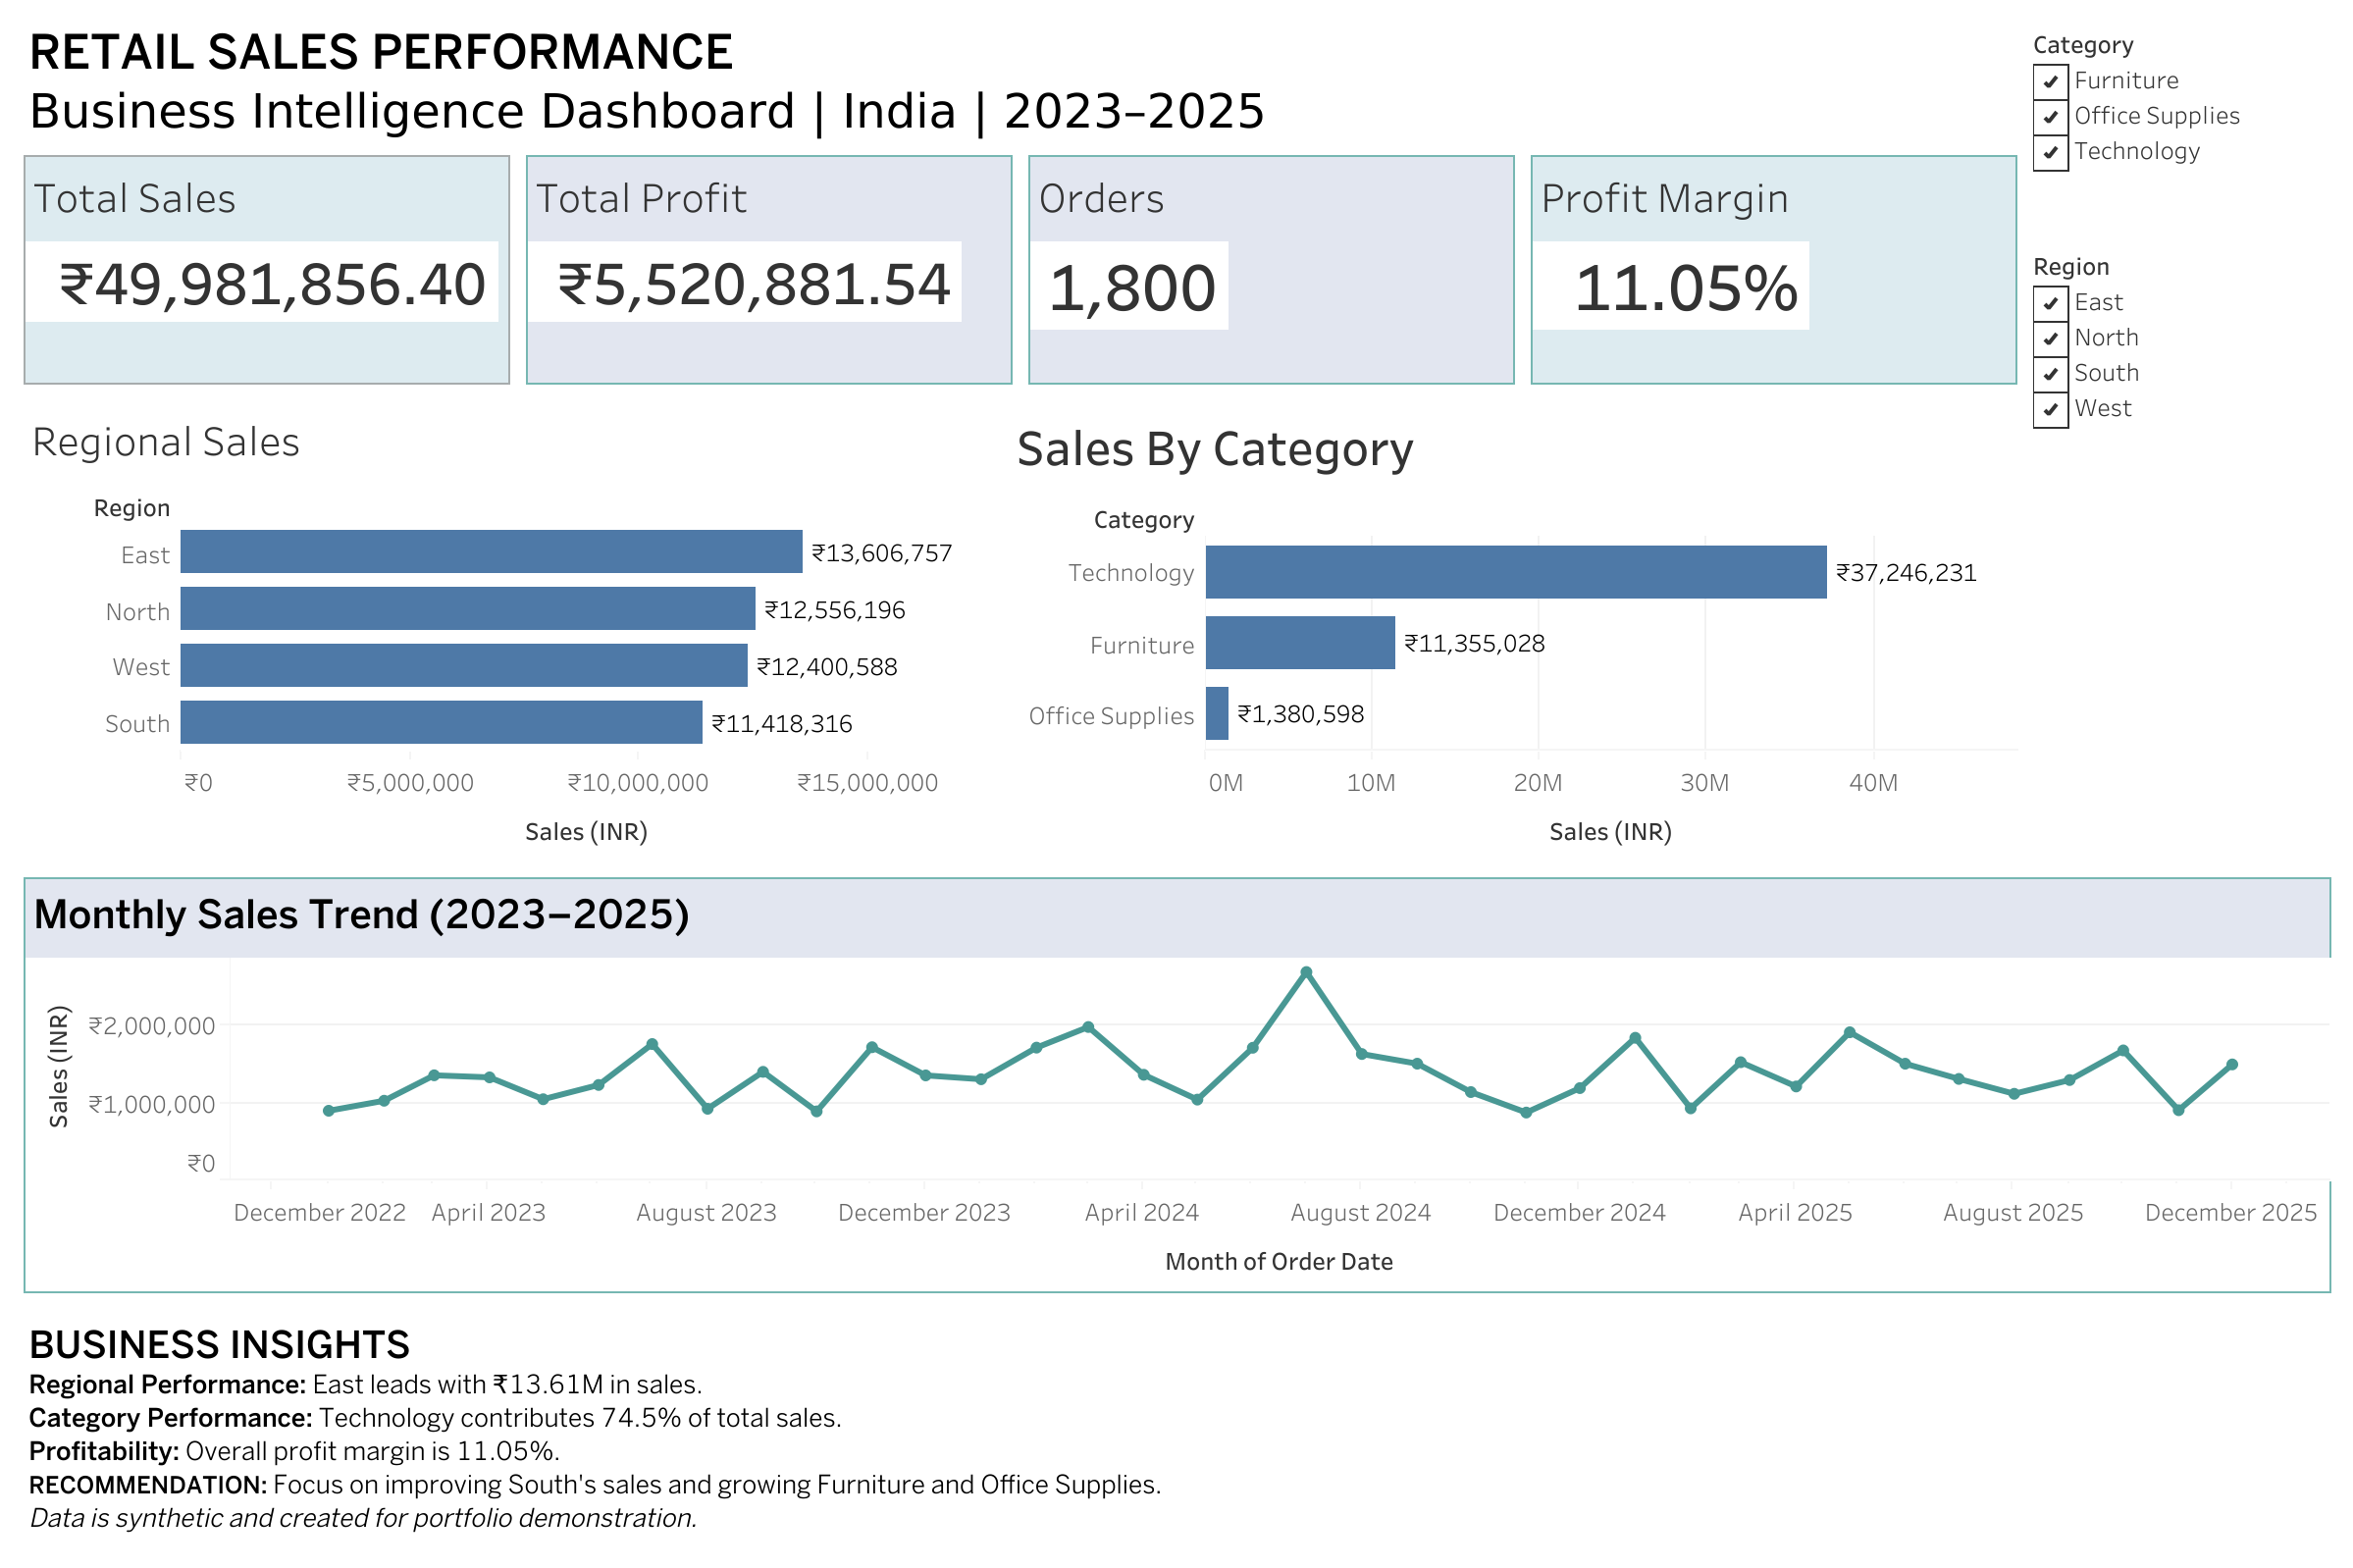

The dashboard page shown, as its layout file describes it:
{"tool":"tableau","page":{"name":"Dashboard 1","canvas":[1000,1000],"units":"permille","ordinal":0},"visuals":[{"type":"title","box":[6.7,10,853.3,81.2]},{"type":"filter","title":"Regional Sales","param":"[federated.0dqyoet0lazu3o1ajphkh1cvmn64].[none:Category:nk]","box":[860,10,133.3,135]},{"type":"worksheet","title":"Total Sales","mark":"Automatic","box":[6.7,91.2,213.3,158.8]},{"type":"worksheet","title":"Total Profit","mark":"Automatic","box":[220,91.2,213.3,158.8]},{"type":"worksheet","title":"Orders","mark":"Automatic","box":[433.3,91.2,213.3,158.8]},{"type":"worksheet","title":"Profit Margin","mark":"Automatic","box":[646.7,91.2,213.3,158.8]},{"type":"filter","title":"Regional Sales","param":"[federated.0dqyoet0lazu3o1ajphkh1cvmn64].[none:Region:nk]","box":[860,145,133.3,158.8]},{"type":"worksheet","title":"Regional Sales","mark":"Automatic","rows":["Region"],"cols":["Sales (INR)"],"box":[6.7,250.2,418.3,303.9]},{"type":"worksheet","title":"Sales by Category","mark":"Bar","rows":["Category"],"cols":["Sales (INR)"],"box":[425,250.2,435,303.9]},{"type":"worksheet","title":"Monthly Sales Trend","mark":"Automatic","rows":["Sales (INR)"],"cols":["Order Date"],"box":[6.7,554,986.7,274.4]},{"type":"text","box":[6.7,828.5,986.7,161.5]}]}

Visuals, with their boxes on the dashboard's canvas, which has no fixed pixel size, in thousandths of its width and height (x1, y1, x2, y2). These are canvas units, not pixel positions in the 2353x1568 screenshot, which may show the page scaled, cropped or inside an application window:
title: [left=7, top=10, right=860, bottom=91]
"Regional Sales" filter: [left=860, top=10, right=993, bottom=145]
"Total Sales" worksheet: [left=7, top=91, right=220, bottom=250]
"Total Profit" worksheet: [left=220, top=91, right=433, bottom=250]
"Orders" worksheet: [left=433, top=91, right=647, bottom=250]
"Profit Margin" worksheet: [left=647, top=91, right=860, bottom=250]
"Regional Sales" filter: [left=860, top=145, right=993, bottom=304]
"Regional Sales" worksheet: [left=7, top=250, right=425, bottom=554]
"Sales by Category" worksheet (Bar marks): [left=425, top=250, right=860, bottom=554]
"Monthly Sales Trend" worksheet: [left=7, top=554, right=993, bottom=828]
text: [left=7, top=828, right=993, bottom=990]
